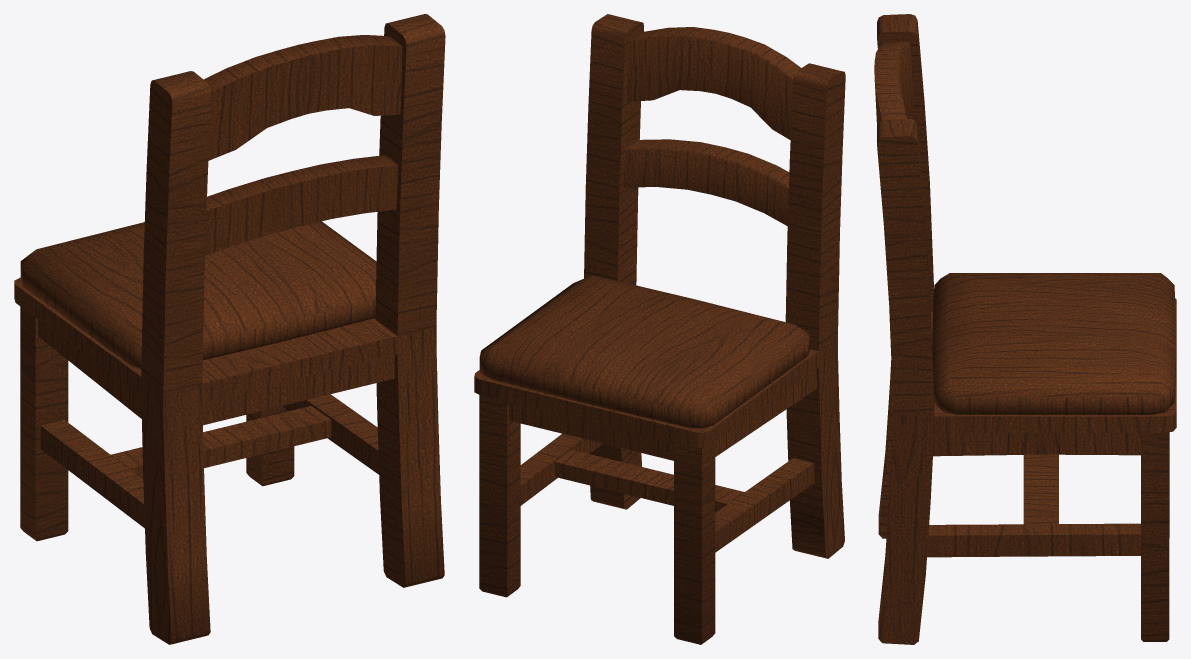
File: Work_Table_Chair.fbx
3 renders of one model, left to right at view 1: azimuth 30°, elevation 25°; view 2: azimuth 150°, elevation 25°; view 3: azimuth 270°, elevation 25°, orthographic. The views are drawn at different scales.
Visible parts, largest first — view 1: Work_Table_Chair; view 2: Work_Table_Chair; view 3: Work_Table_Chair.
Boxes of the visible parts, box(x1,y1,x2,y2) form: Work_Table_Chair: box(14, 14, 445, 644); Work_Table_Chair: box(474, 14, 845, 644); Work_Table_Chair: box(874, 14, 1176, 644).
Size of the model in its own units: 36.17 by 71.34 by 37.81.
